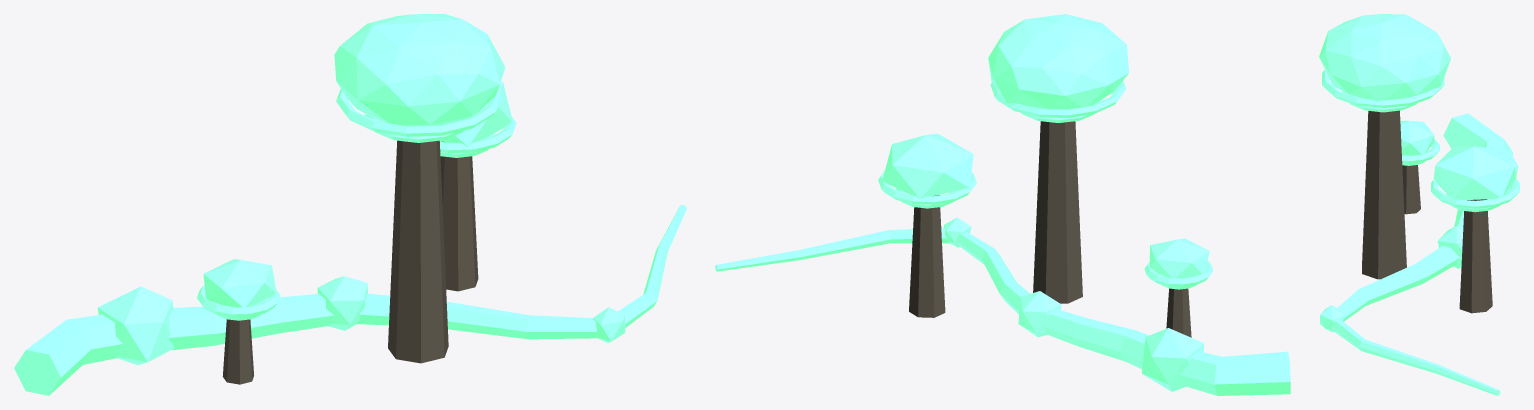
Rendered from gloom_flora.glb.
3 renders of one model, left to right at view 1: azimuth 30°, elevation 25°; view 2: azimuth 150°, elevation 25°; view 3: azimuth 270°, elevation 25°, orthographic. The views are drawn at different scales.
Parts seen in each view (by area): view 1: Mushroom_L, Root, Mushroom_M, Mushroom_S; view 2: Mushroom_L, Root, Mushroom_M, Mushroom_S; view 3: Mushroom_L, Mushroom_M, Root, Mushroom_S.
Boxes of the visible parts, x1=… form: Mushroom_L: x1=334, y1=14, x2=505, y2=363; Root: x1=14, y1=205, x2=686, y2=395; Mushroom_M: x1=440, y1=81, x2=516, y2=291; Mushroom_S: x1=197, y1=259, x2=280, y2=384; Mushroom_L: x1=988, y1=14, x2=1129, y2=303; Root: x1=715, y1=217, x2=1290, y2=395; Mushroom_M: x1=878, y1=133, x2=976, y2=317; Mushroom_S: x1=1144, y1=238, x2=1213, y2=337; Mushroom_L: x1=1319, y1=14, x2=1450, y2=279; Mushroom_M: x1=1431, y1=146, x2=1519, y2=313; Root: x1=1320, y1=113, x2=1518, y2=395; Mushroom_S: x1=1400, y1=120, x2=1439, y2=214.
Size of the model in its own units: 3.07 by 1.47 by 1.03.
